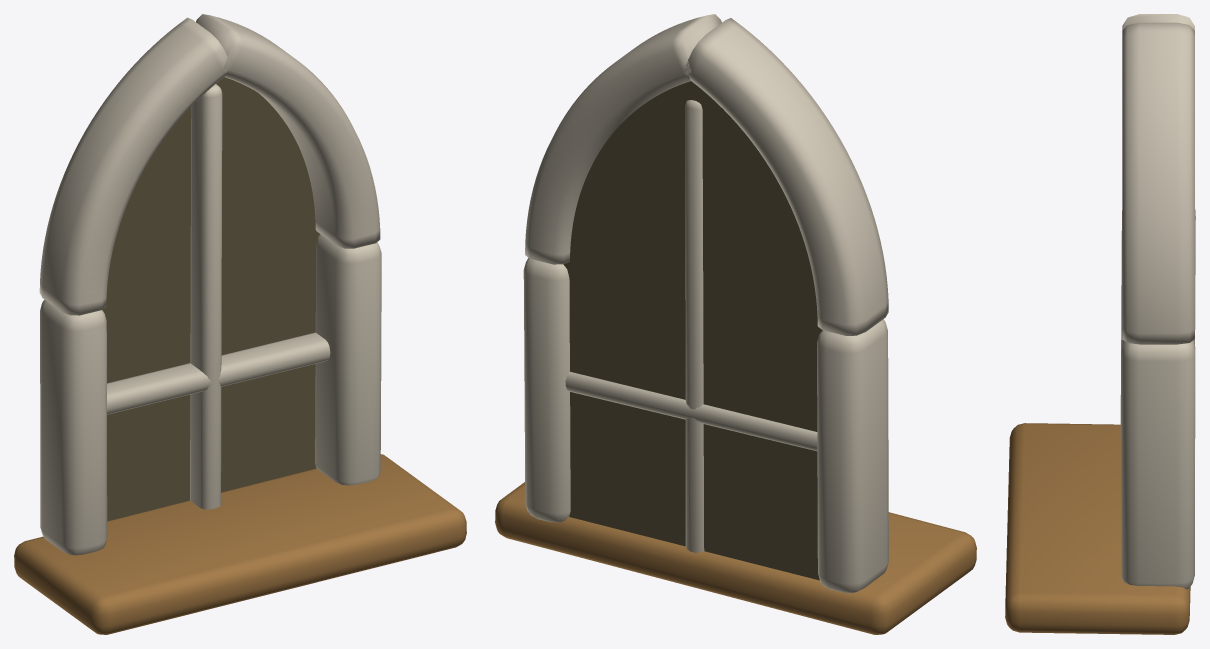
Rendered from tg_window_gothic.glb.
3 renders of one model, left to right at view 1: azimuth 30°, elevation 25°; view 2: azimuth 150°, elevation 25°; view 3: azimuth 270°, elevation 25°, orthographic. The views are drawn at different scales.
Visible parts, largest first — view 1: window_tg_gothic, Glow; view 2: window_tg_gothic, Glow; view 3: window_tg_gothic.
Boxes of the visible parts, box(x1,y1,x2,y2) form: window_tg_gothic: box(14, 14, 466, 634); Glow: box(102, 77, 319, 521); window_tg_gothic: box(495, 14, 976, 634); Glow: box(563, 81, 822, 580); window_tg_gothic: box(1005, 14, 1195, 634).
Bounding box in the file's own units: 0.9543 × 1.27 × 0.4132.
